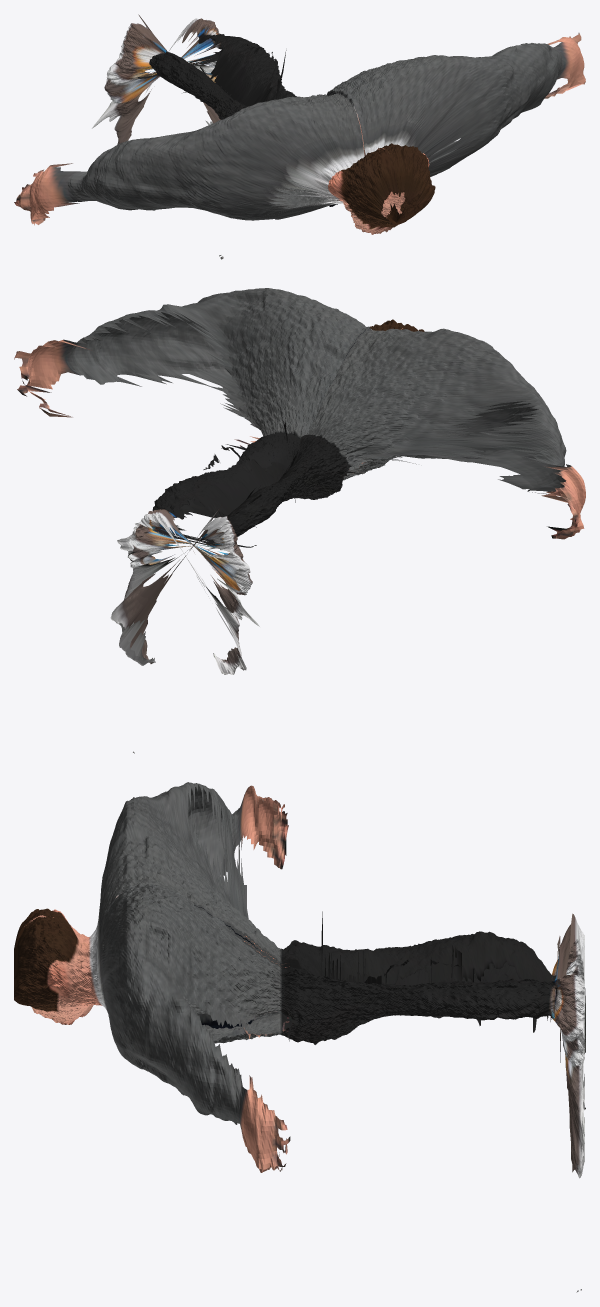
3 views of the same model, one above another, from view 1: azimuth 30°, elevation 25°; view 2: azimuth 150°, elevation 25°; view 3: azimuth 270°, elevation 25° (orthographic). The views are drawn at different scales.
Parts seen in each view (by area): view 1: geometry_0; view 2: geometry_0; view 3: geometry_0.
Boxes of the visible parts, x1,y1,x2,y2 form: geometry_0: (14, 14, 585, 259); geometry_0: (14, 288, 585, 753); geometry_0: (14, 782, 585, 1292).
Size of the model in its own units: 1.73 by 0.9482 by 1.23.
1 material, 1 textured.
